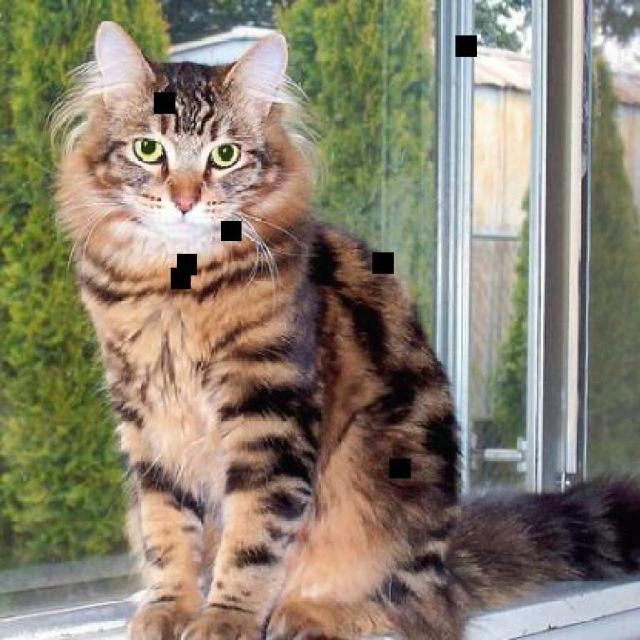cat: (58, 20, 639, 638)
